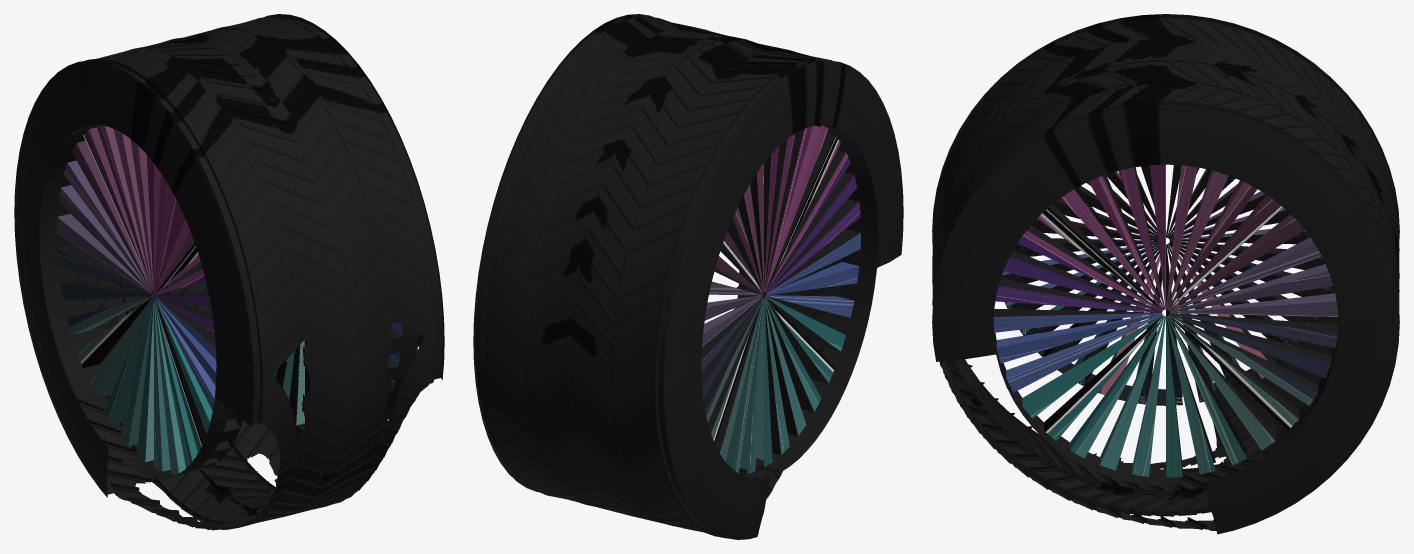
Rendered from llanta_3.obj.
3 views of the same model, side by side, from view 1: azimuth 30°, elevation 25°; view 2: azimuth 150°, elevation 25°; view 3: azimuth 270°, elevation 25° (orthographic). The views are drawn at different scales.
Visible parts, largest first — view 1: llanta.003; view 2: llanta.003; view 3: llanta.003.
Boxes of the visible parts, x1,y1,x2,y2 form: llanta.003: [14, 14, 444, 530]; llanta.003: [473, 14, 903, 539]; llanta.003: [932, 14, 1399, 534].
Bounding box in the file's own units: 0.3283 × 0.6917 × 0.6718.
2 materials, 2 textured.
